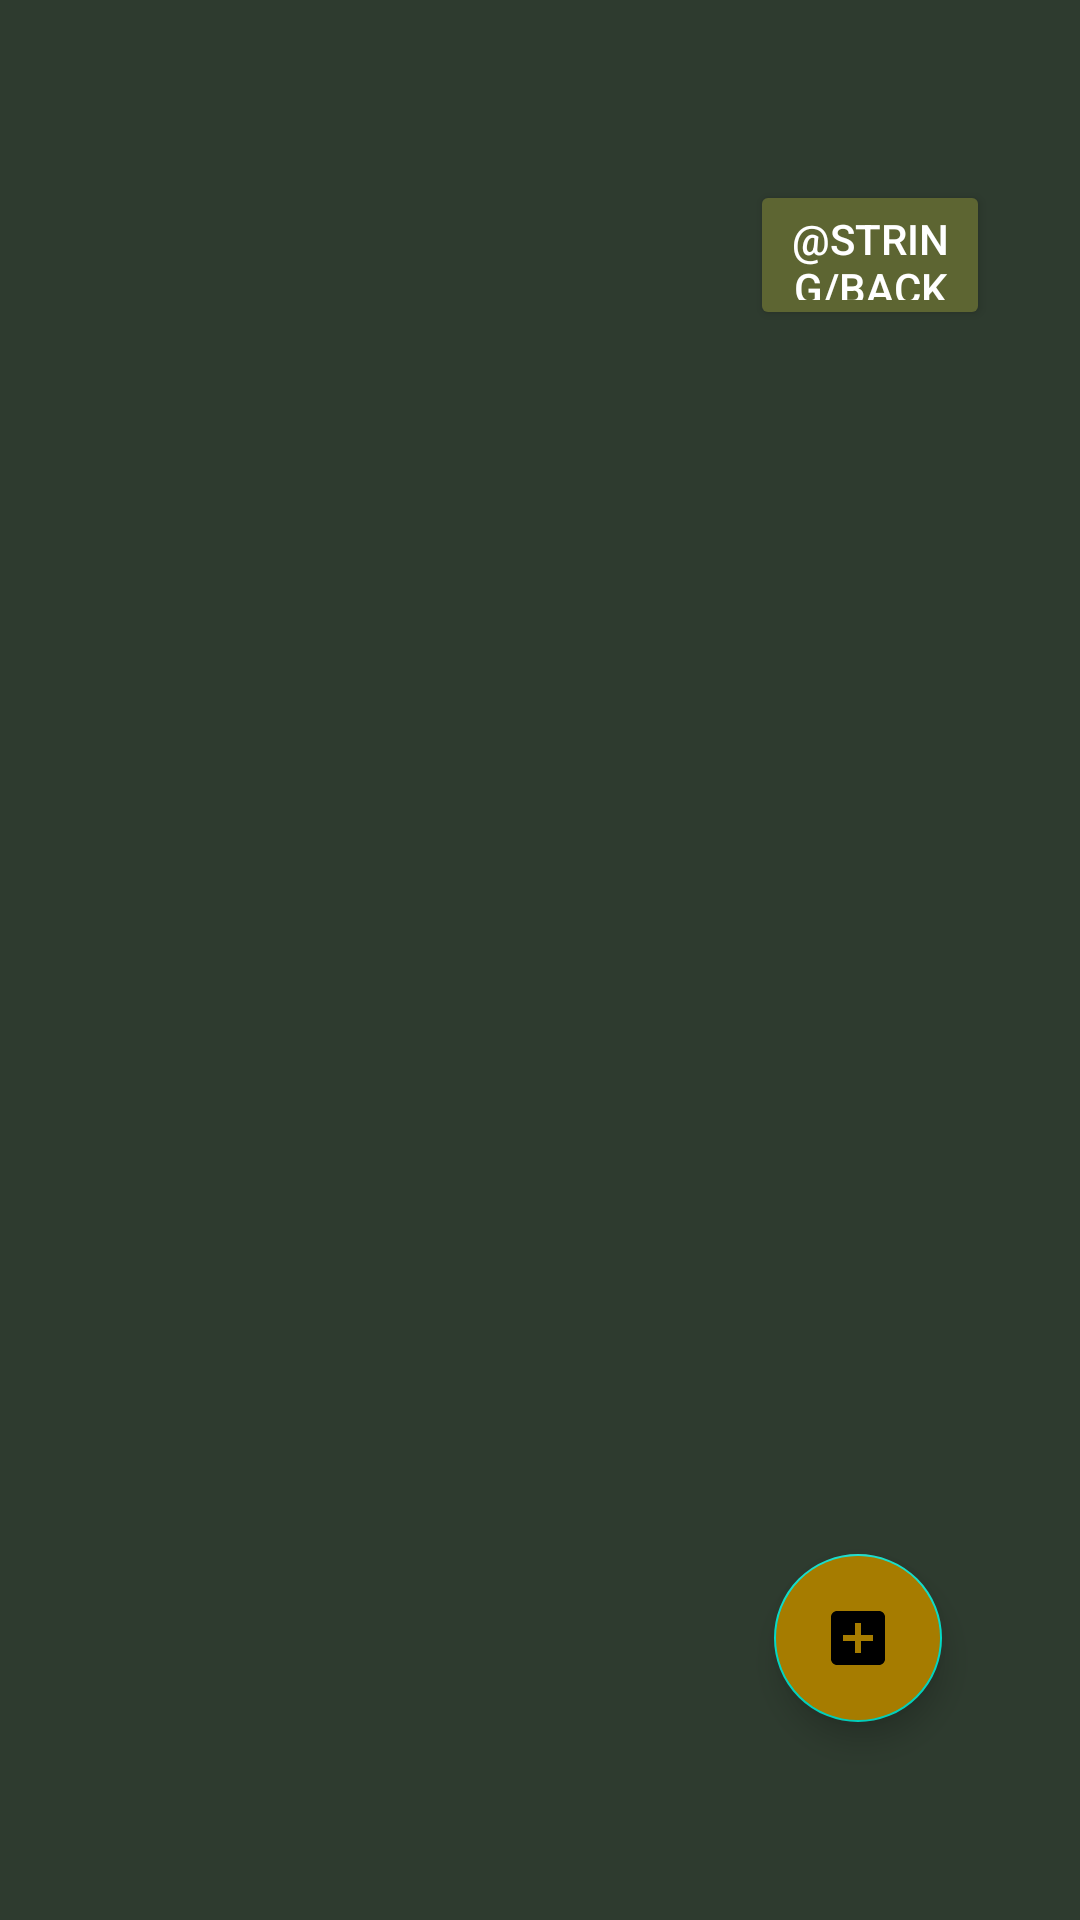

Icon bounding boxes for this 1080×1920 phone screenshot, format [x1,y1,x2,y2]:
add box: [774,1554,942,1722]
